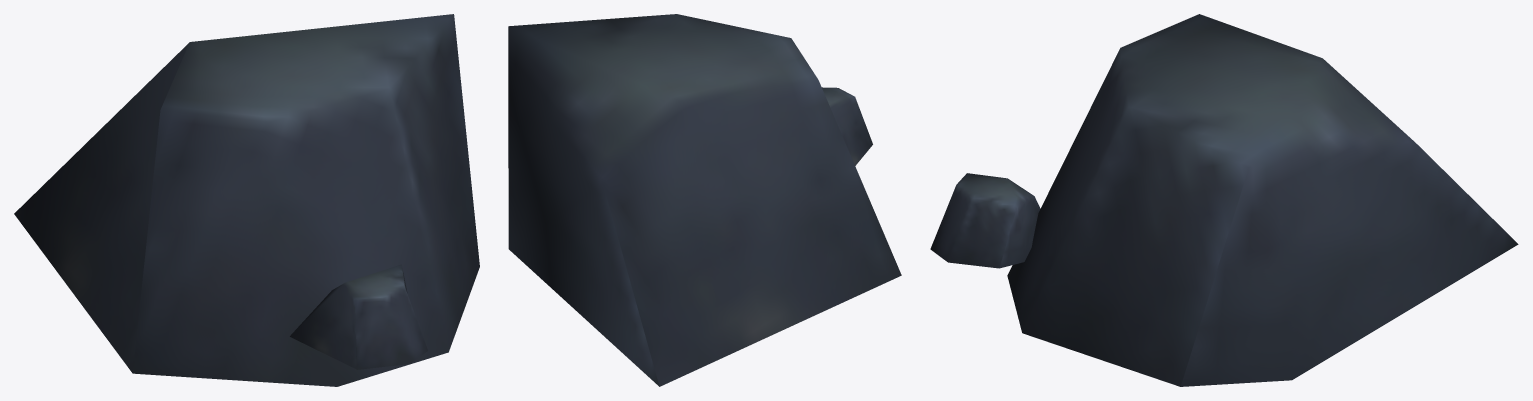
Rendered from Area_04_39.fbx.
3 views of the same model, side by side, from view 1: azimuth 30°, elevation 25°; view 2: azimuth 150°, elevation 25°; view 3: azimuth 270°, elevation 25° (orthographic). The views are drawn at different scales.
Visible parts, largest first — view 1: Area_04_39; view 2: Area_04_39; view 3: Area_04_39.
Boxes of the visible parts, box(x1,y1,x2,y2) form: Area_04_39: box(14, 14, 479, 386); Area_04_39: box(508, 14, 901, 386); Area_04_39: box(930, 14, 1518, 386).
Bounding box in the file's own units: 1435 × 816 × 1950.
